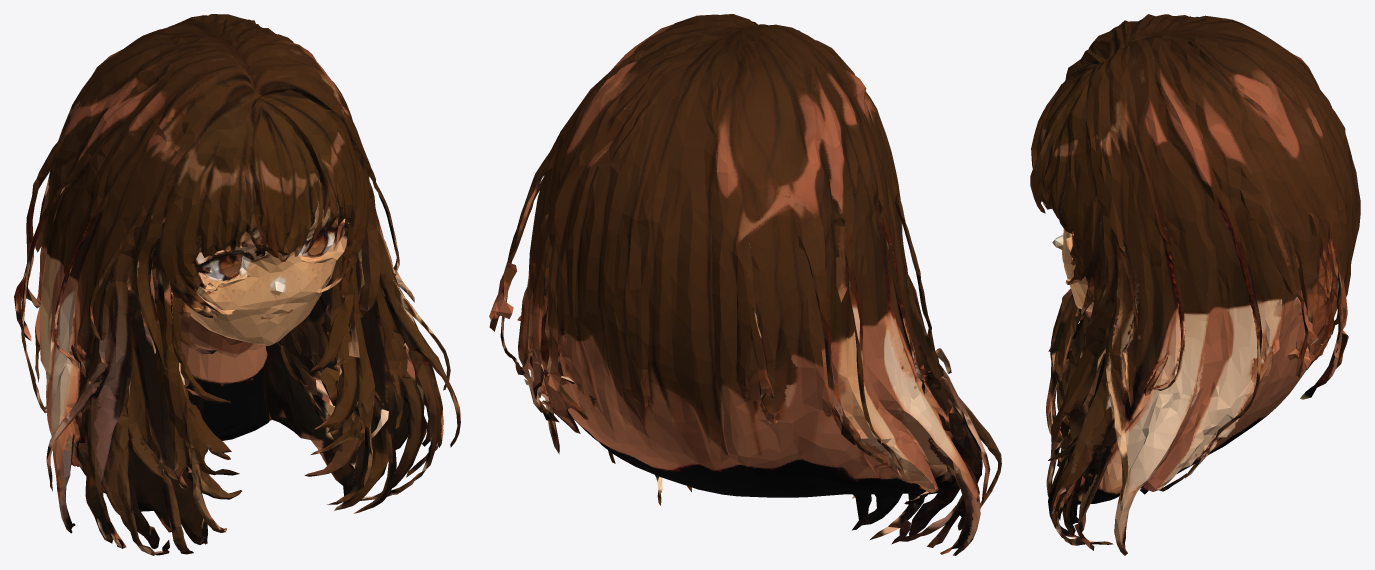
The model's file is trav_sayo_portrait_face.glb.
The picture shows the model from 3 angles, left to right: view 1: azimuth 30°, elevation 25°; view 2: azimuth 150°, elevation 25°; view 3: azimuth 270°, elevation 25°; orthographic projection. The views are drawn at different scales.
Visible parts, largest first — view 1: temp_mesh.ply; view 2: temp_mesh.ply; view 3: temp_mesh.ply.
Part boxes in pixels (x1=…): temp_mesh.ply: x1=14, y1=14, x2=460, y2=555; temp_mesh.ply: x1=489, y1=14, x2=1001, y2=555; temp_mesh.ply: x1=1030, y1=14, x2=1360, y2=555.
Bounding box in the file's own units: 1.79 × 1.96 × 1.26.
1 material, 1 textured.
